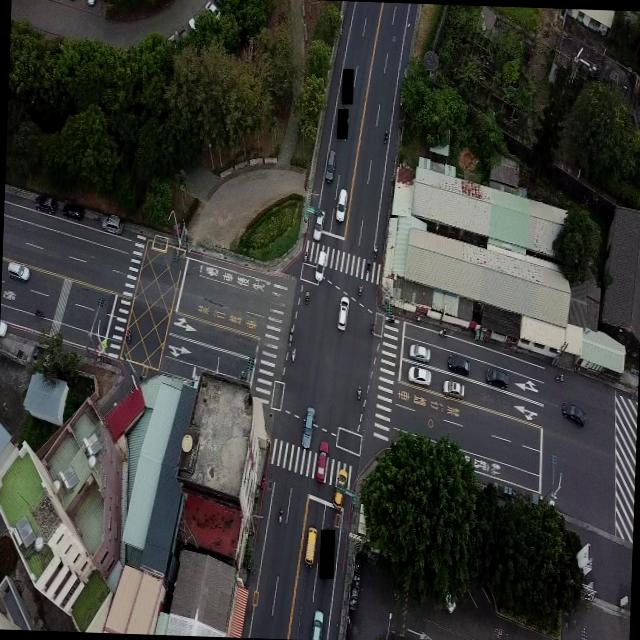bike: (124, 324, 133, 344), (276, 504, 284, 524), (354, 280, 364, 296), (354, 382, 362, 400), (290, 346, 298, 363), (386, 314, 396, 326), (303, 288, 310, 304), (371, 242, 378, 257), (369, 320, 375, 335), (366, 258, 371, 273)
car: (561, 400, 586, 426), (302, 404, 316, 450), (484, 364, 508, 390), (314, 439, 328, 482), (406, 363, 430, 386), (32, 191, 56, 213), (61, 197, 84, 219), (100, 212, 122, 235), (334, 186, 348, 222), (6, 259, 30, 280), (440, 378, 463, 399), (446, 352, 470, 372), (335, 466, 346, 509), (313, 246, 326, 282), (408, 340, 430, 361), (324, 148, 337, 182), (310, 608, 324, 639), (337, 294, 348, 331), (312, 208, 324, 241), (306, 528, 316, 564)
